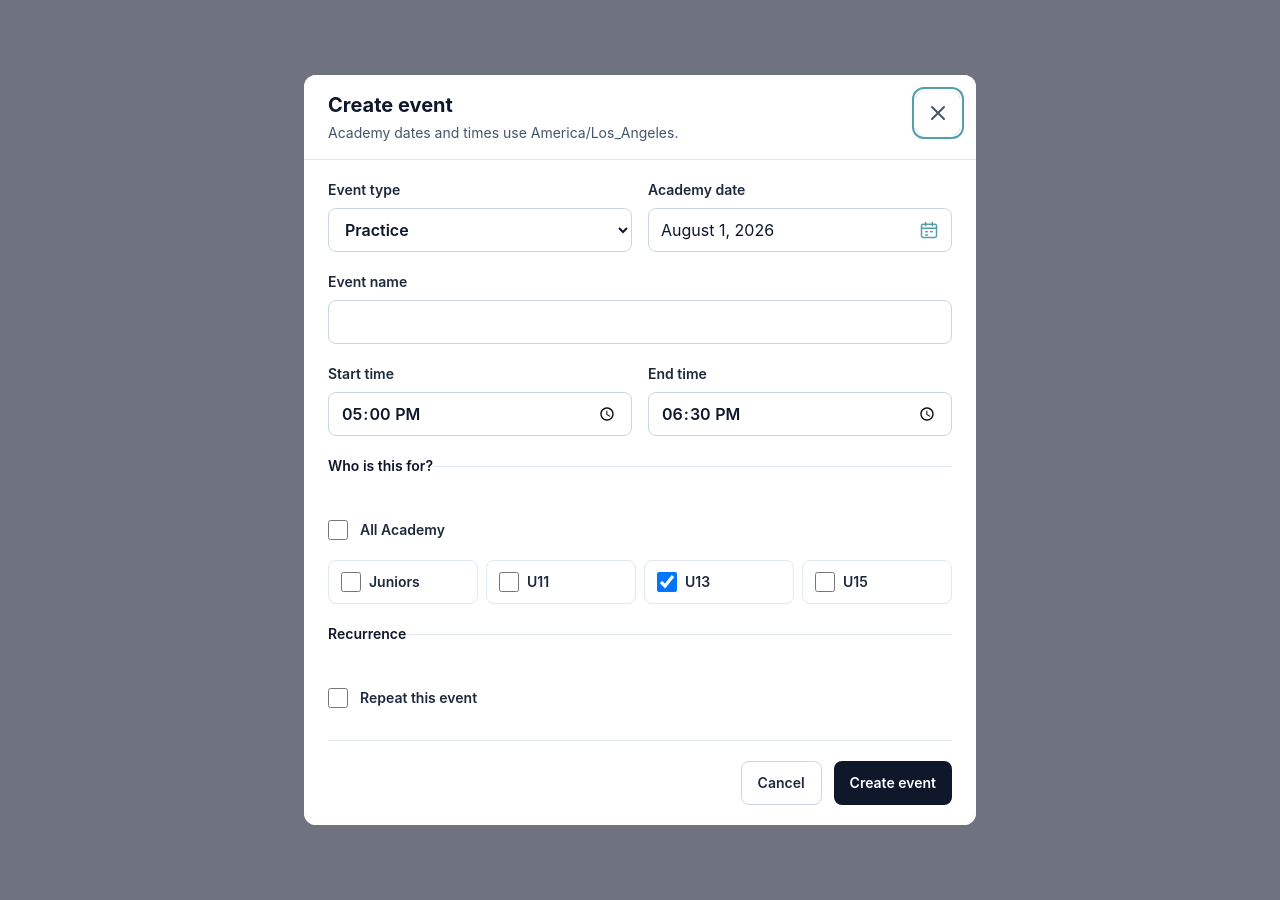
Test: Calendar accessibility and responsive resilience › associates form errors with their controls and exposes a visible focus target
Click the button "Create event" at x=893, y=783, box [834,761,952,805]
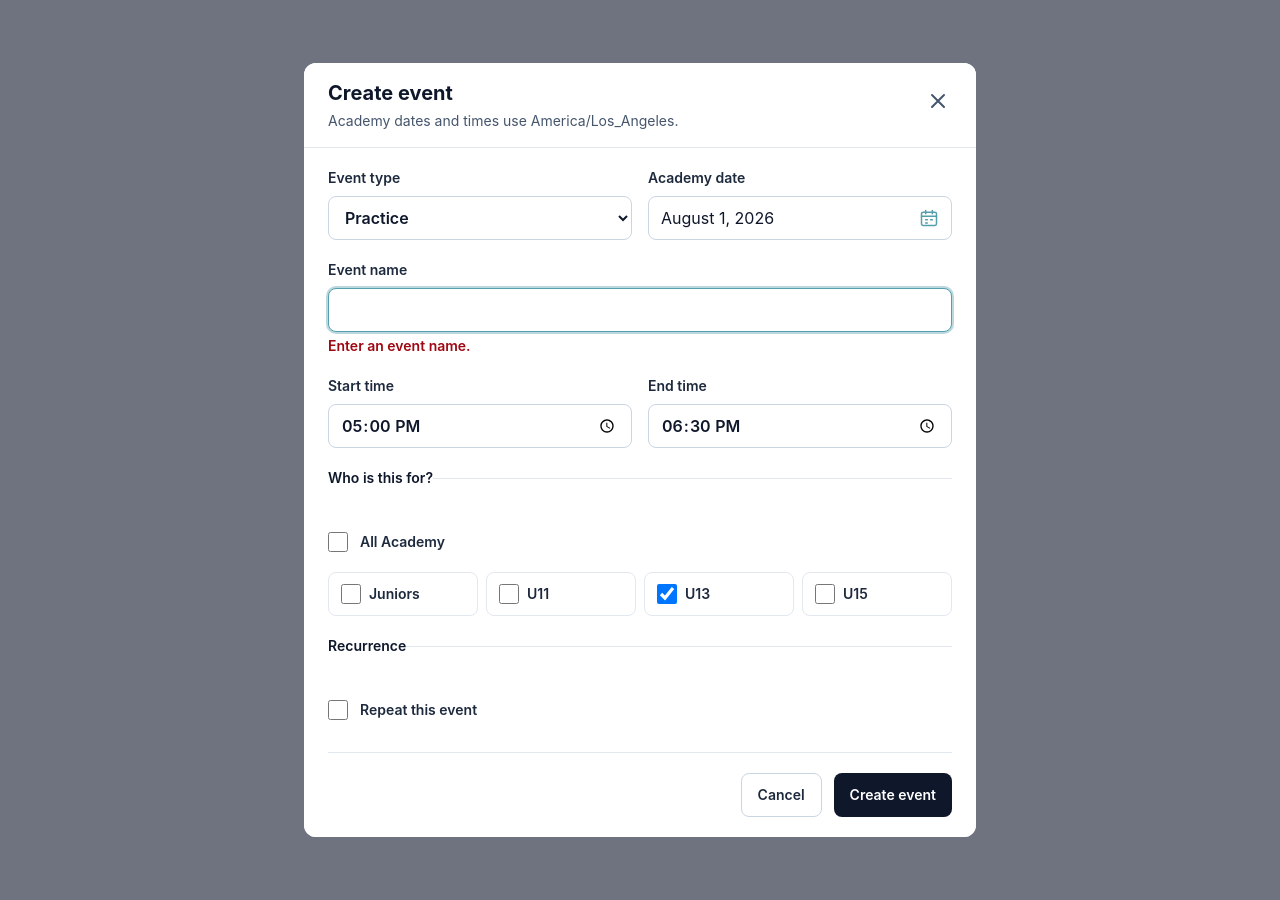
Expected: the text "Enter an event name." is shown, [328,337,471,354]
